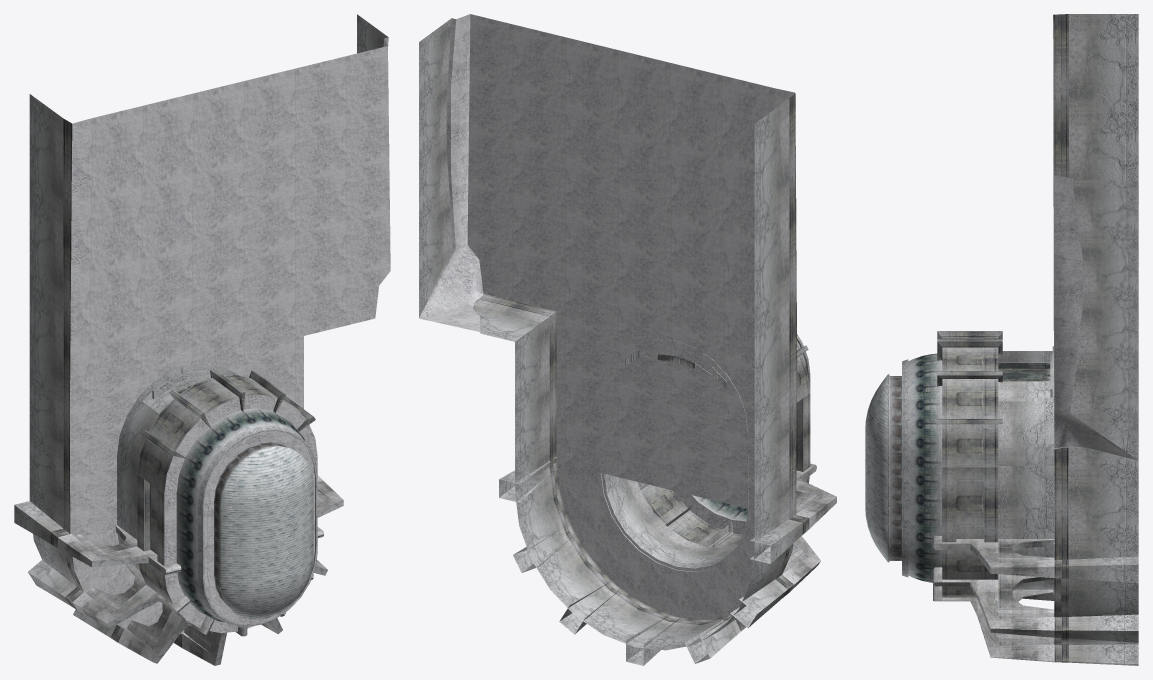
File: rv_mod_col_lighthouse.obj
3 renders of one model, left to right at view 1: azimuth 30°, elevation 25°; view 2: azimuth 150°, elevation 25°; view 3: azimuth 270°, elevation 25°, orthographic. The views are drawn at different scales.
Parts seen in each view (by area): view 1: rv_mod_col_lighthouse; view 2: rv_mod_col_lighthouse; view 3: rv_mod_col_lighthouse.
Part boxes in pixels (box(x1,y1,x2,y2)): rv_mod_col_lighthouse: box(14, 14, 390, 665); rv_mod_col_lighthouse: box(419, 14, 836, 665); rv_mod_col_lighthouse: box(865, 14, 1138, 665).
Bounding box in the file's own units: 58.65 × 90.74 × 38.97.
10 materials, 10 textured.
